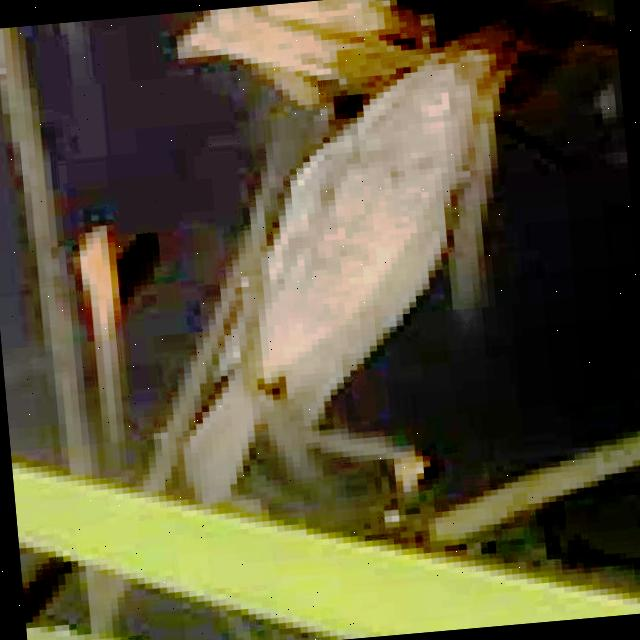Columnaris Disease: (185, 50, 499, 501)
